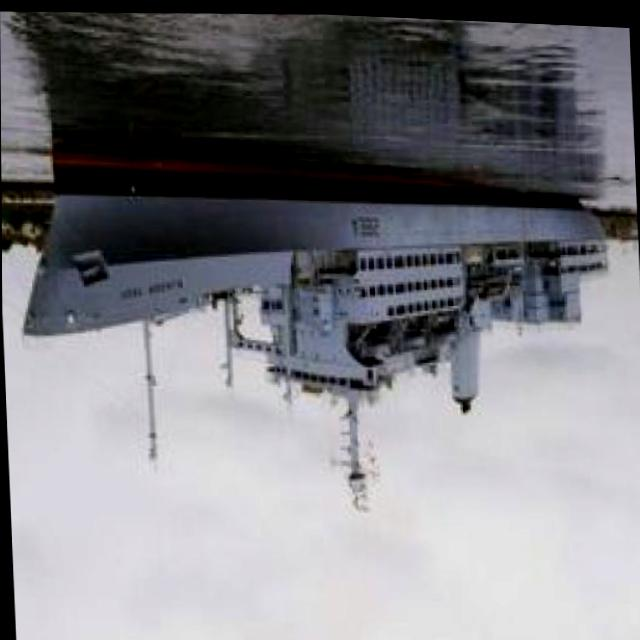ship2: (21, 147, 609, 508)
